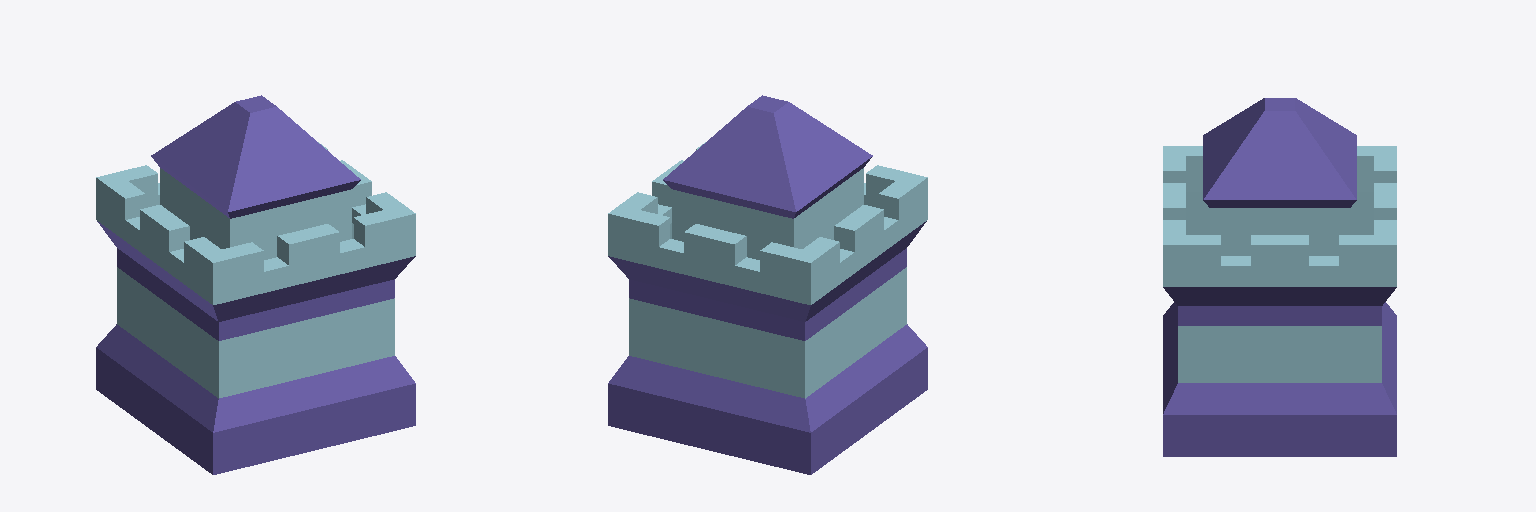
File: tile_tower_squareA.obj
3 renders of one model, left to right at view 1: azimuth 30°, elevation 25°; view 2: azimuth 150°, elevation 25°; view 3: azimuth 270°, elevation 25°, orthographic.
Visible parts, largest first — view 1: towerSquare_sampleA; view 2: towerSquare_sampleA; view 3: towerSquare_sampleA.
Boxes of the visible parts, <box> form: towerSquare_sampleA: <box>96,95,415,474</box>; towerSquare_sampleA: <box>608,95,927,474</box>; towerSquare_sampleA: <box>1163,98,1396,456</box>.
Bounding box in the file's own units: 1 × 1.43 × 1.